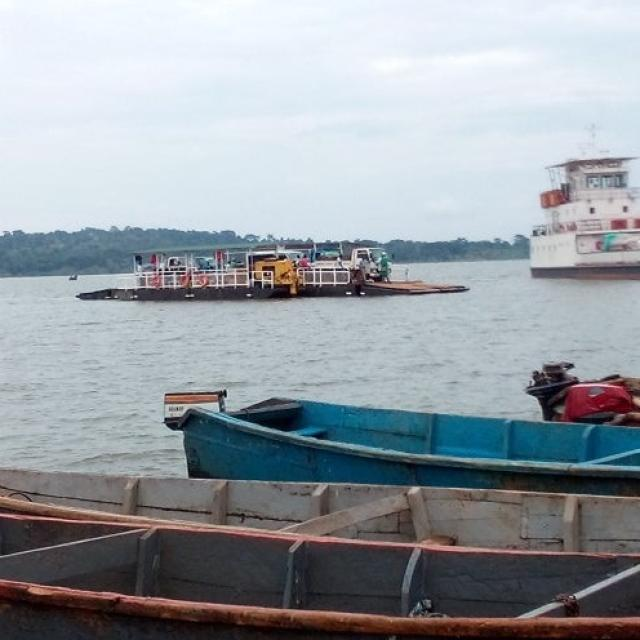fishing boat: (86, 216, 422, 319), (164, 390, 640, 413)
